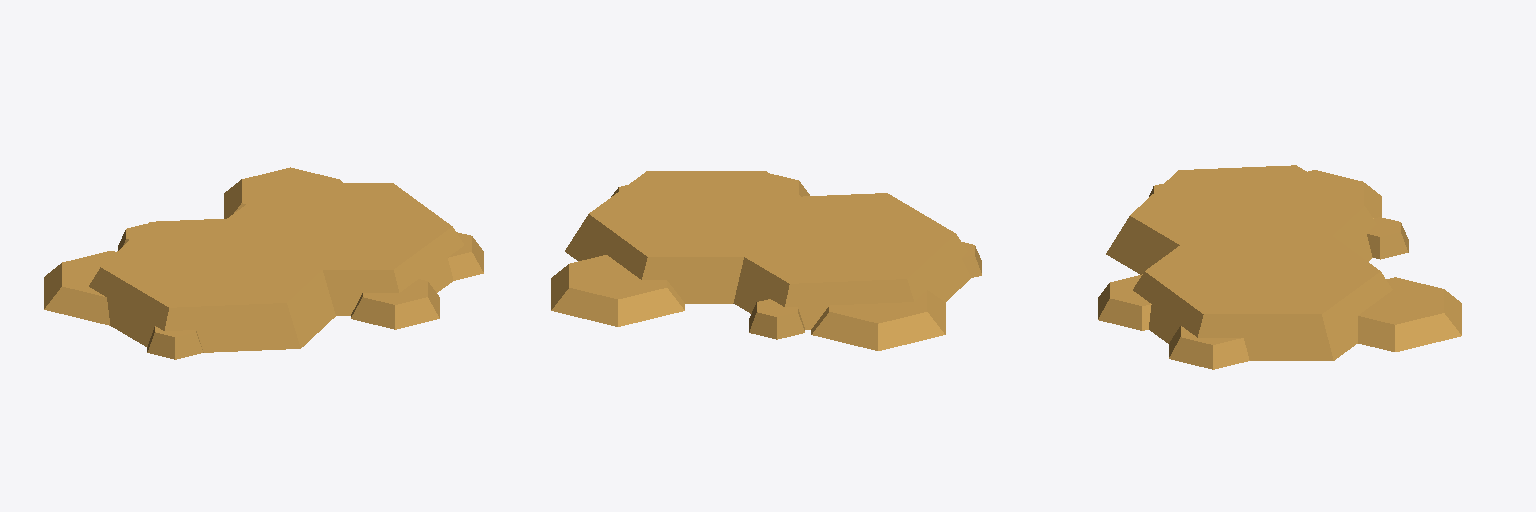
Rendered from rockFlat.obj.
The picture shows the model from 3 angles: view 1: azimuth 30°, elevation 25°; view 2: azimuth 150°, elevation 25°; view 3: azimuth 270°, elevation 25°; orthographic projection.
Visible parts, largest first — view 1: rockFlat; view 2: rockFlat; view 3: rockFlat.
Part boxes in pixels (x1,y1,x2,y2): rockFlat: (44,167,483,359); rockFlat: (551,171,981,350); rockFlat: (1098,165,1461,369).
Bounding box in the file's own units: 1.79 × 0.165 × 1.45.